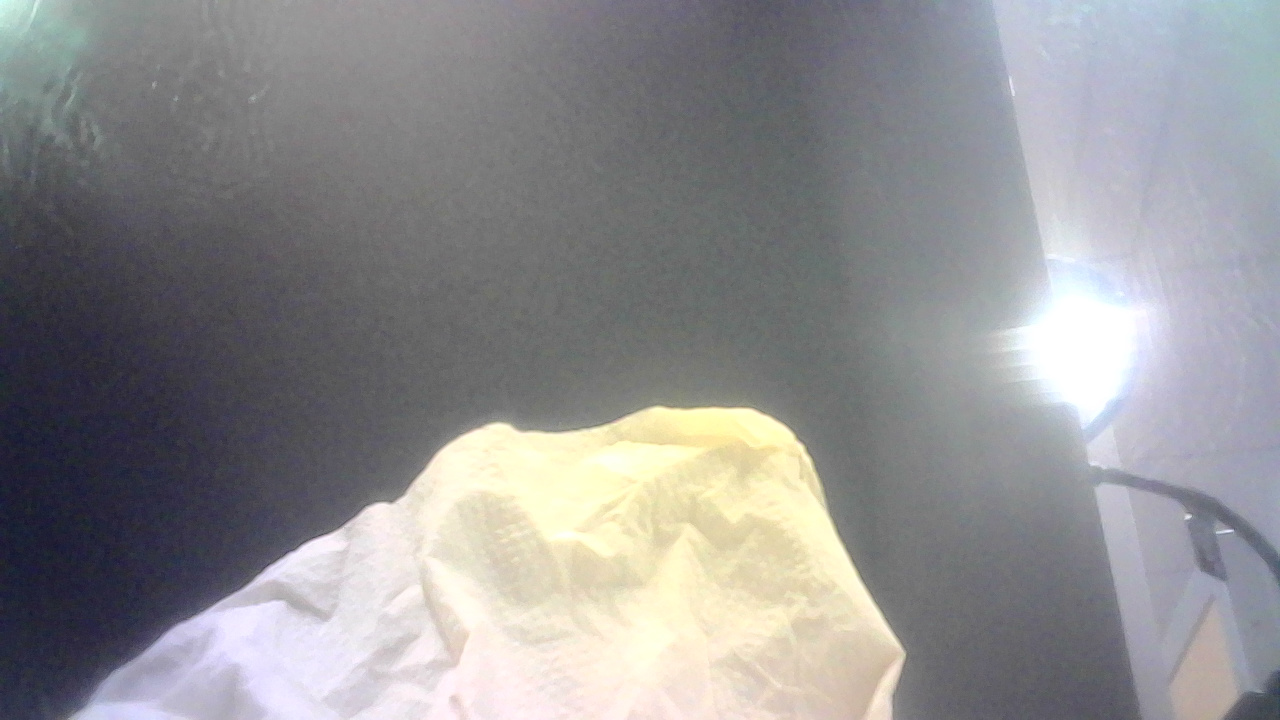Paper_Recycling: (46, 405, 902, 720)
